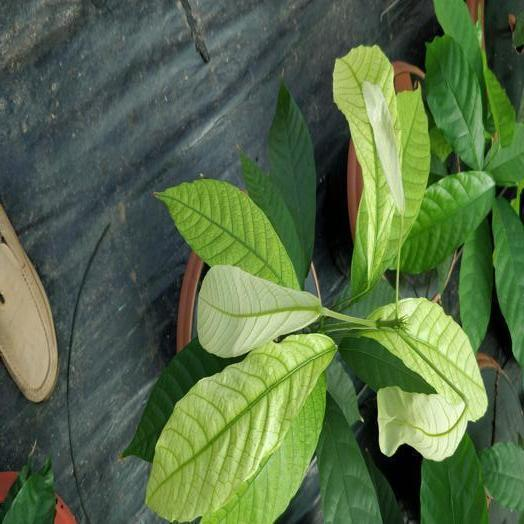Healthy Leaf: (123, 338, 239, 461), (402, 171, 494, 272), (241, 153, 307, 283), (269, 83, 314, 268), (317, 395, 381, 523), (426, 37, 483, 169), (340, 336, 434, 391), (434, 0, 482, 88), (327, 353, 361, 426)
Iron: (146, 334, 333, 520), (200, 377, 324, 523), (334, 45, 403, 293), (158, 179, 298, 288), (361, 298, 486, 419), (197, 266, 322, 357), (378, 386, 466, 460), (397, 86, 430, 240), (386, 214, 399, 267)
